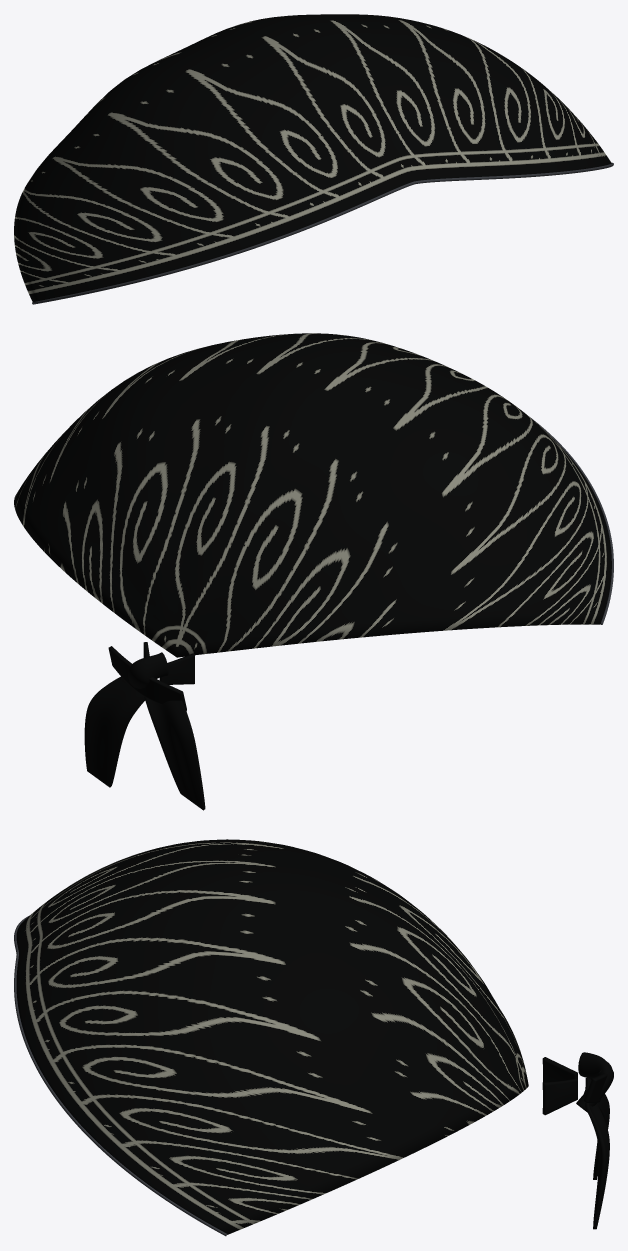
The model's file is Feminine-side-sweep-headband251-headgear.glb.
3 renders of one model, top to bottom at view 1: azimuth 30°, elevation 25°; view 2: azimuth 150°, elevation 25°; view 3: azimuth 270°, elevation 25°, orthographic. The views are drawn at different scales.
Visible parts, largest first — view 1: 226 headgear / Headwear / triangular bandana235.001, 226 headgear / Headwear / folded kerchief edge235.001; view 2: 226 headgear / Headwear / triangular bandana235.001; view 3: 226 headgear / Headwear / triangular bandana235.001, 226 headgear / Headwear / folded kerchief edge235.001.
Boxes of the visible parts, box(x1,y1,x2,y2) form: 226 headgear / Headwear / triangular bandana235.001: box(14, 14, 611, 301); 226 headgear / Headwear / folded kerchief edge235.001: box(32, 162, 613, 304); 226 headgear / Headwear / triangular bandana235.001: box(14, 333, 611, 810); 226 headgear / Headwear / triangular bandana235.001: box(16, 839, 613, 1234); 226 headgear / Headwear / folded kerchief edge235.001: box(14, 915, 227, 1236).
Size of the model in its own units: 0.9756 by 0.5075 by 0.8258.
Materials: 2 (1 with a texture image).
